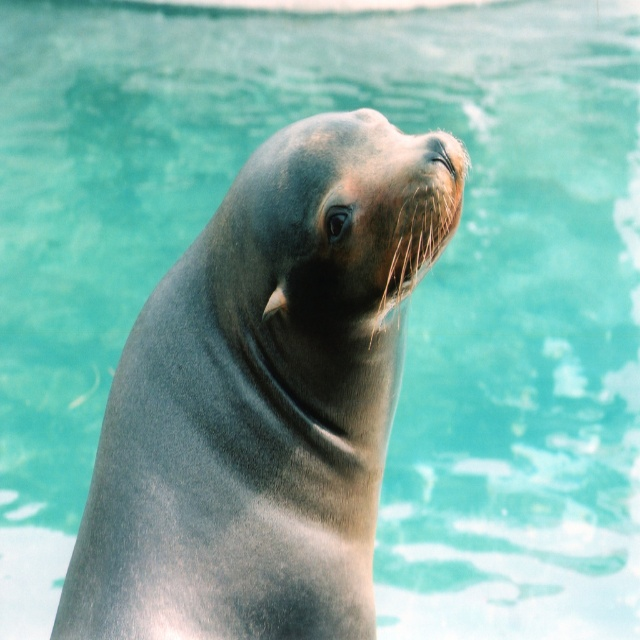Harbor seal: (47, 104, 475, 639)
